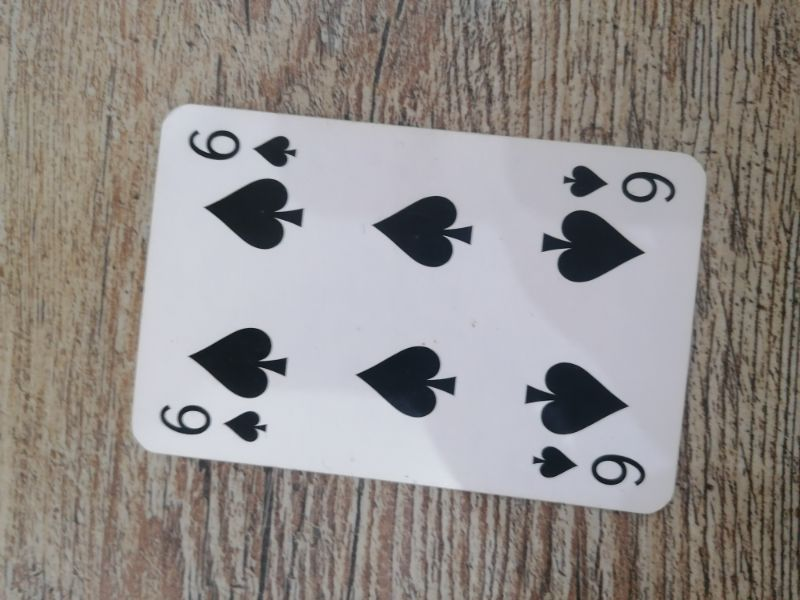6s: (559, 161, 681, 209), (158, 398, 270, 449), (185, 122, 299, 171), (529, 444, 649, 489)
